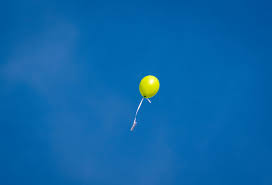Balloon: (139, 75, 160, 98)
